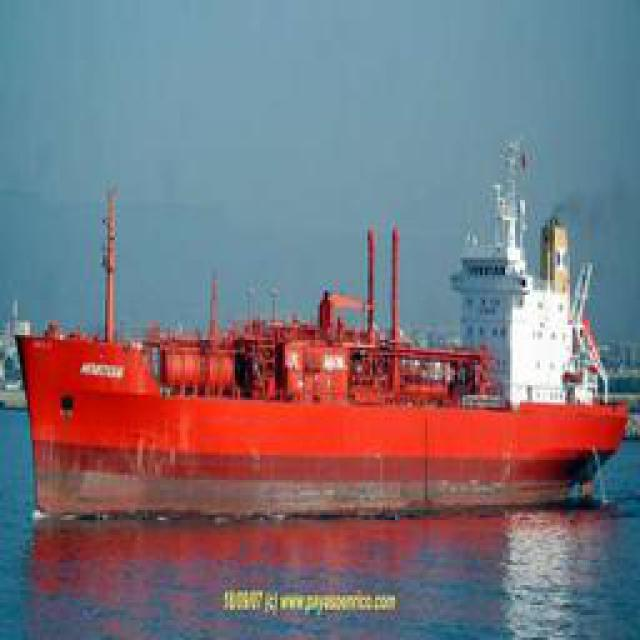Ship: (25, 233, 625, 521)
